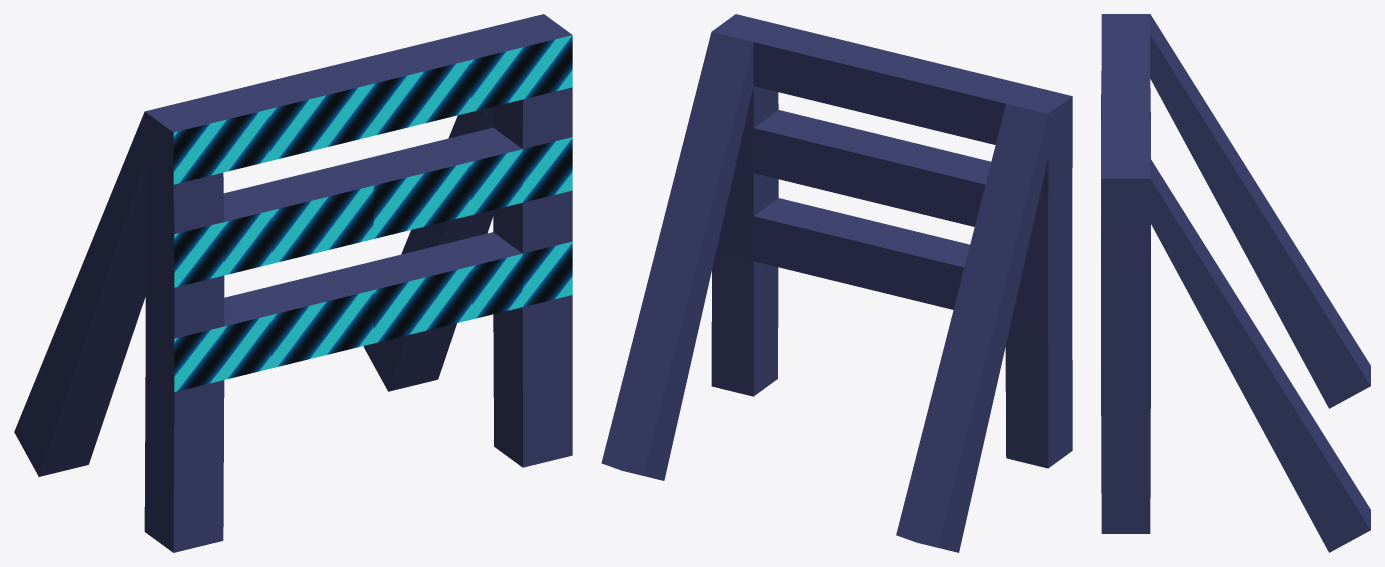
Rendered from obstruction_2.fbx.
3 views of the same model, side by side, from view 1: azimuth 30°, elevation 25°; view 2: azimuth 150°, elevation 25°; view 3: azimuth 270°, elevation 25° (orthographic). The views are drawn at different scales.
Parts seen in each view (by area): view 1: 2; view 2: 2; view 3: 2.
Boxes of the visible parts, x1,y1,x2,y2 form: 2: [14, 14, 572, 552]; 2: [601, 14, 1072, 552]; 2: [1101, 14, 1370, 552].
Bounding box in the file's own units: 160 × 170 × 111.
